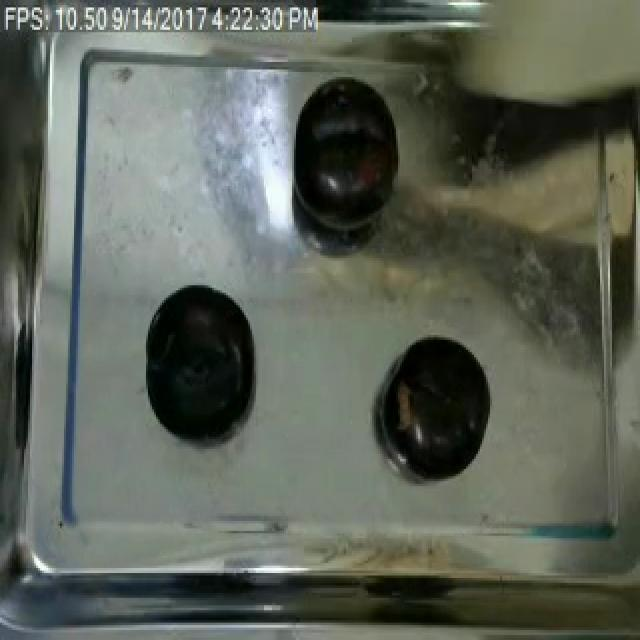Fruit: (140, 278, 260, 444), (284, 74, 408, 234), (382, 330, 494, 481)
